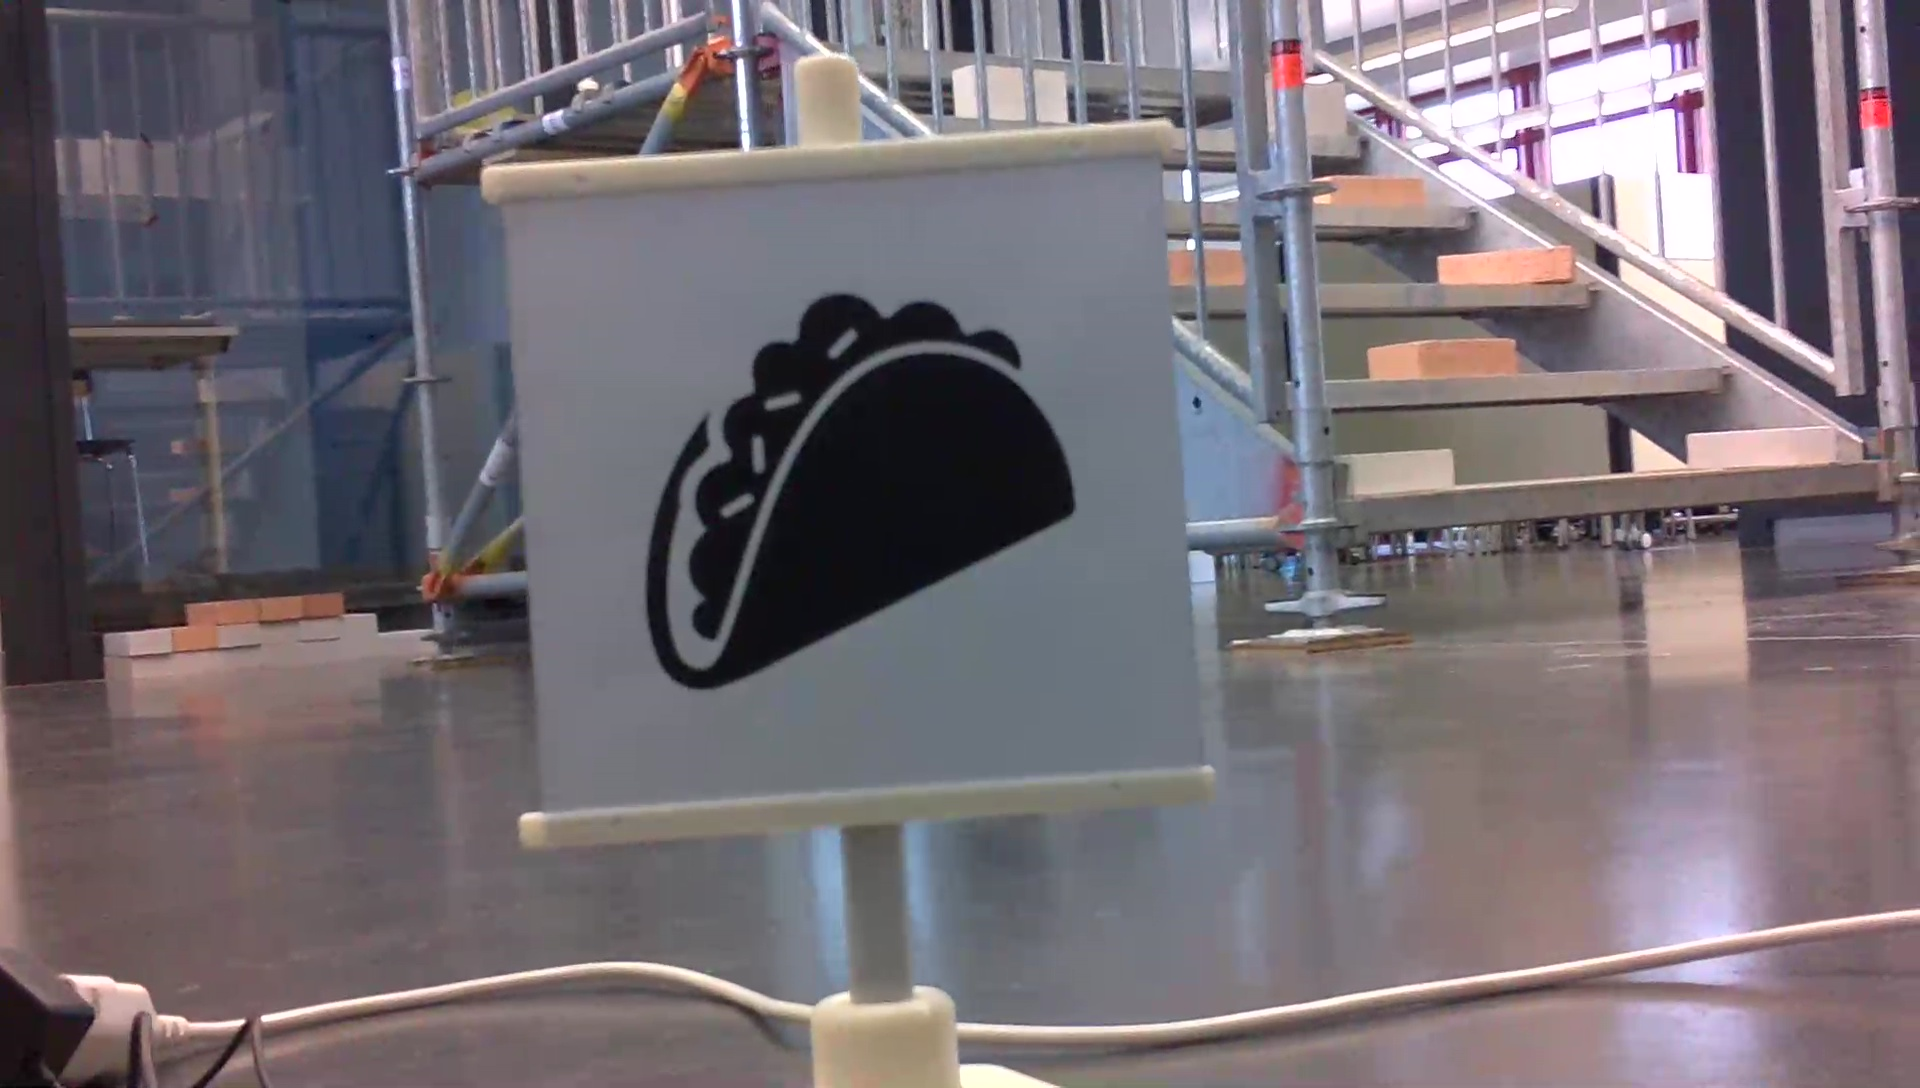brick: (1685, 426, 1836, 466), (1367, 342, 1513, 378), (1440, 249, 1572, 282), (1345, 450, 1451, 489), (1315, 175, 1424, 207), (1303, 86, 1345, 137)
edge: (1348, 460, 1894, 530), (1323, 365, 1731, 408)
taco: (630, 281, 1087, 698)
